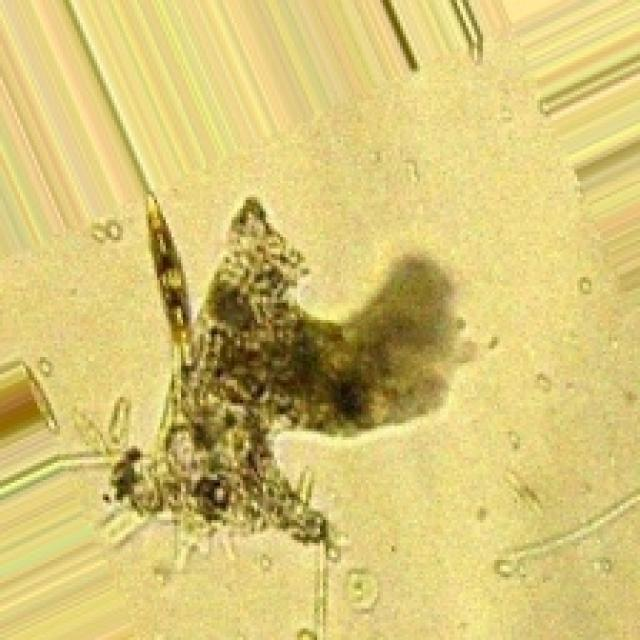Amoeba: (86, 188, 471, 566)
